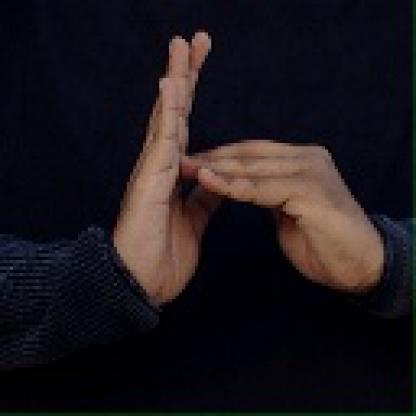Z: (111, 27, 372, 312)
